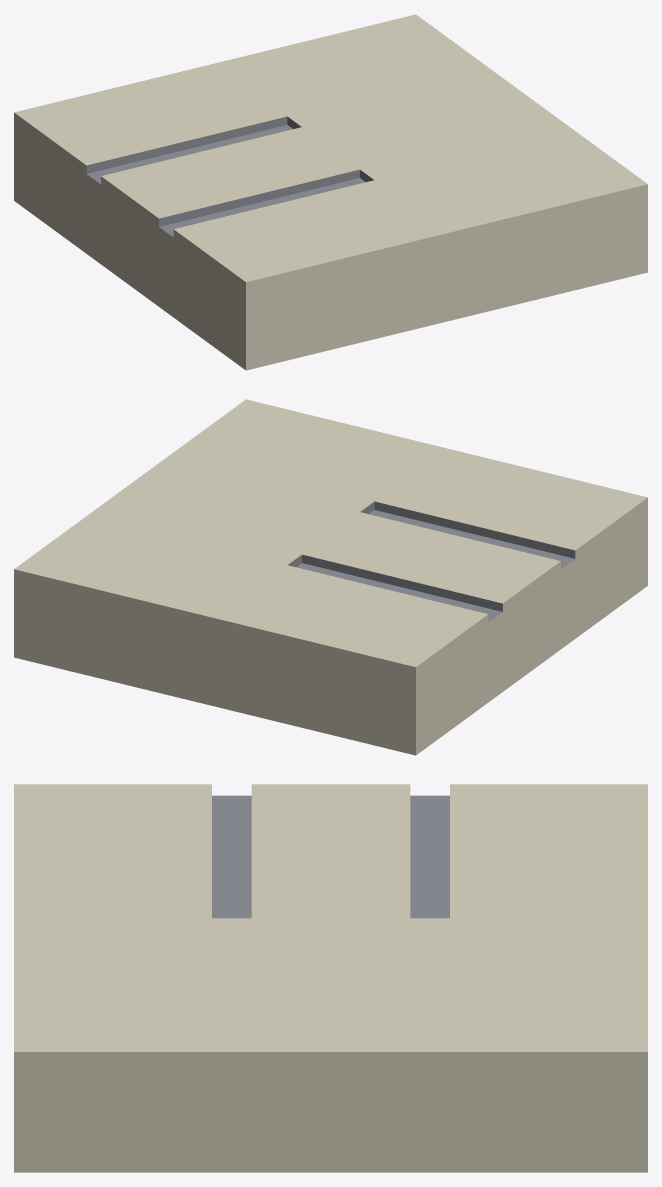
The model's file is tile274.fbx.
The picture shows the model from 3 angles, top to bottom: view 1: azimuth 30°, elevation 25°; view 2: azimuth 150°, elevation 25°; view 3: azimuth 270°, elevation 25°; orthographic projection. The views are drawn at different scales.
Visible parts, largest first — view 1: tile274; view 2: tile274; view 3: tile274.
Boxes of the visible parts, x1,y1,x2,y2 form: tile274: (14, 14, 647, 370); tile274: (14, 399, 647, 755); tile274: (14, 784, 647, 1172).
Bounding box in the file's own units: 10 × 2.1 × 10.
